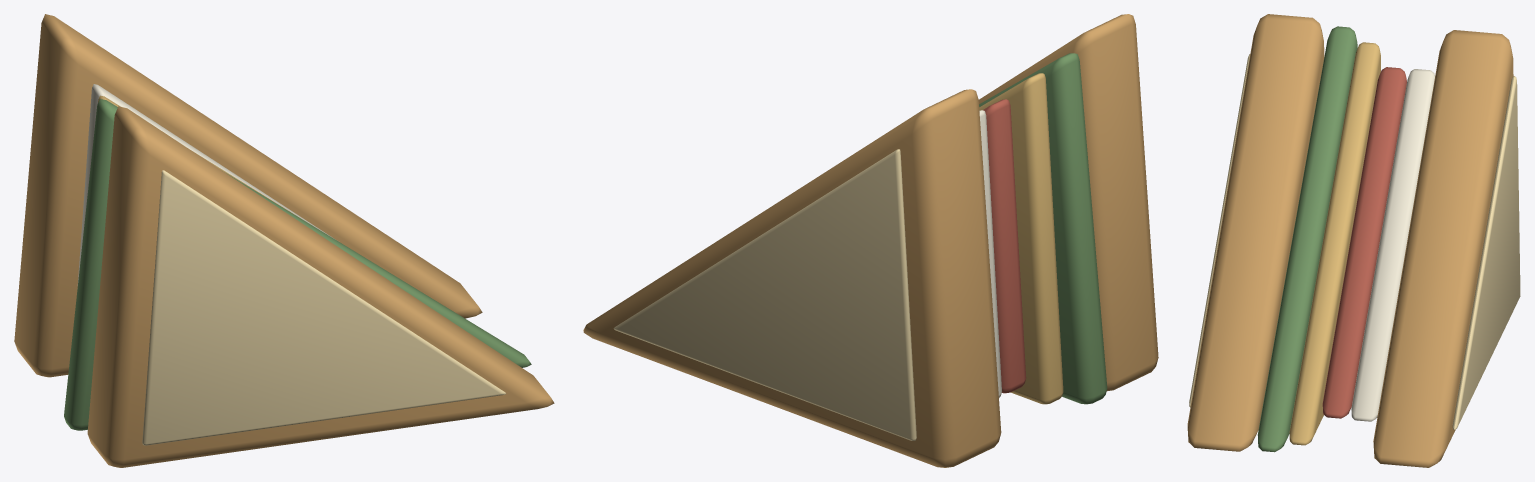
Rendered from option-sandwich.glb.
3 views of the same model, side by side, from view 1: azimuth 30°, elevation 25°; view 2: azimuth 150°, elevation 25°; view 3: azimuth 270°, elevation 25° (orthographic). The views are drawn at different scales.
Parts seen in each view (by area): view 1: Model_Sandwich_Bun, Model_Sandwich_Bread, Model_Sandwich_Leaf, Model_Sandwich_Rice; view 2: Model_Sandwich_Bun, Model_Sandwich_Bread, Model_Sandwich_Leaf, Model_Sandwich_Cheese, Model_Sandwich_Tomato, Model_Sandwich_Rice; view 3: Model_Sandwich_Bun, Model_Sandwich_Leaf, Model_Sandwich_Cheese, Model_Sandwich_Tomato, Model_Sandwich_Bread, Model_Sandwich_Rice.
Part boxes in pixels (bbox=[...]): Model_Sandwich_Bun: bbox=[14, 14, 554, 467]; Model_Sandwich_Bread: bbox=[142, 170, 506, 445]; Model_Sandwich_Leaf: bbox=[64, 99, 531, 430]; Model_Sandwich_Rice: bbox=[77, 84, 335, 285]; Model_Sandwich_Bun: bbox=[583, 14, 1158, 467]; Model_Sandwich_Bread: bbox=[614, 149, 916, 440]; Model_Sandwich_Leaf: bbox=[979, 53, 1107, 404]; Model_Sandwich_Cheese: bbox=[979, 73, 1063, 404]; Model_Sandwich_Tomato: bbox=[983, 99, 1026, 393]; Model_Sandwich_Rice: bbox=[979, 110, 1001, 397]; Model_Sandwich_Bun: bbox=[1187, 14, 1513, 467]; Model_Sandwich_Leaf: bbox=[1257, 26, 1357, 452]; Model_Sandwich_Cheese: bbox=[1289, 42, 1380, 445]; Model_Sandwich_Tomato: bbox=[1322, 67, 1406, 418]; Model_Sandwich_Bread: bbox=[1189, 54, 1520, 430]; Model_Sandwich_Rice: bbox=[1351, 69, 1435, 421].
Bounding box in the file's own units: 0.6684 × 0.4769 × 0.5091.
